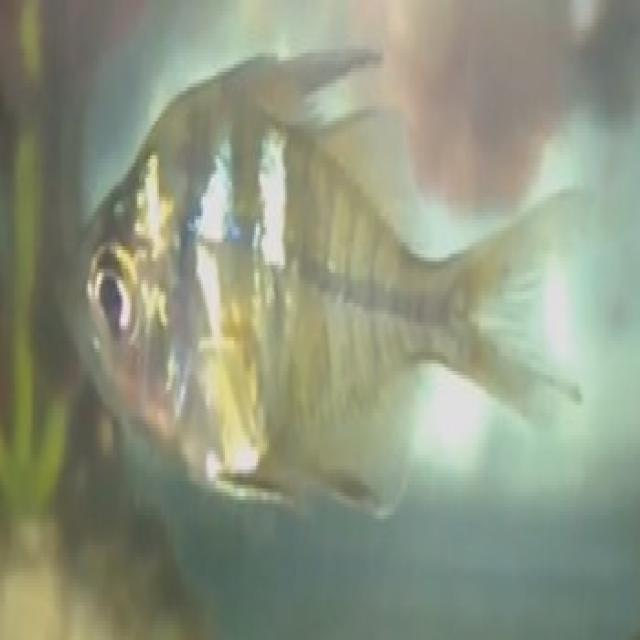Glass-Perchlet: (21, 4, 592, 530)
